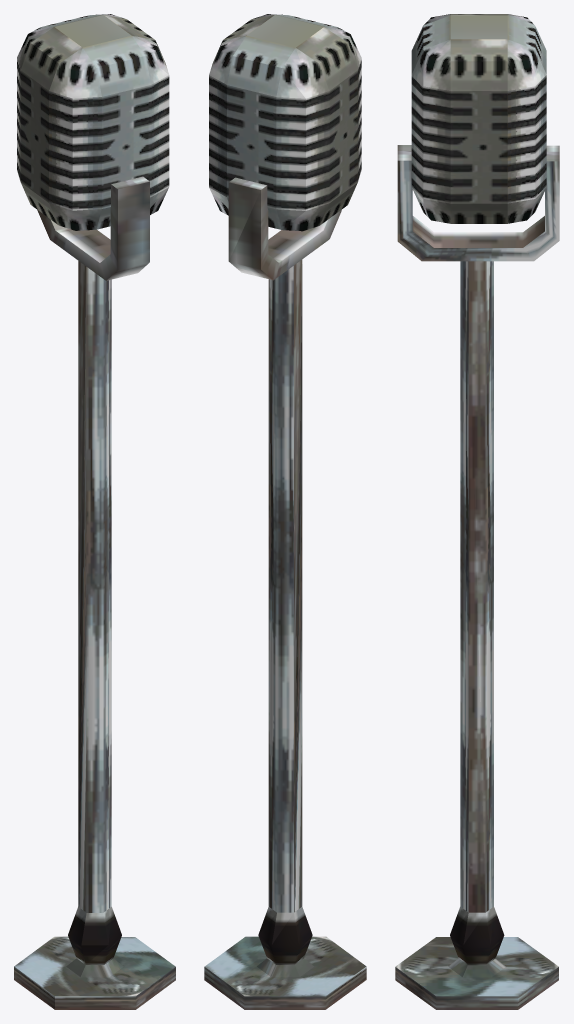
The model's file is Microphone1.FBX.
3 renders of one model, left to right at view 1: azimuth 30°, elevation 25°; view 2: azimuth 150°, elevation 25°; view 3: azimuth 270°, elevation 25°, orthographic.
Parts seen in each view (by area): view 1: Microphone1; view 2: Microphone1; view 3: Microphone1.
Boxes of the visible parts, x1,y1,x2,y2 form: Microphone1: [14, 14, 175, 1009]; Microphone1: [204, 14, 366, 1009]; Microphone1: [395, 14, 559, 1009].
Bounding box in the file's own units: 21.81 × 163 × 25.55.
Materials: 1 (1 with a texture image).
